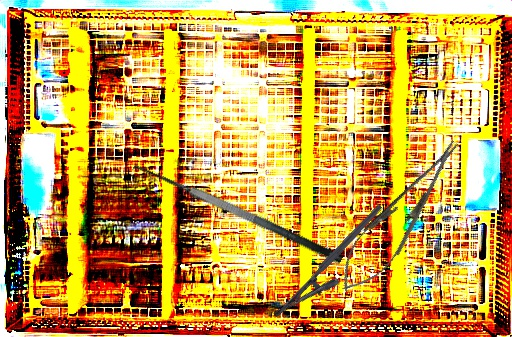Needle Holder: (326, 129, 475, 304), (272, 203, 398, 333)
Spatula Surgical: (125, 154, 345, 283)
